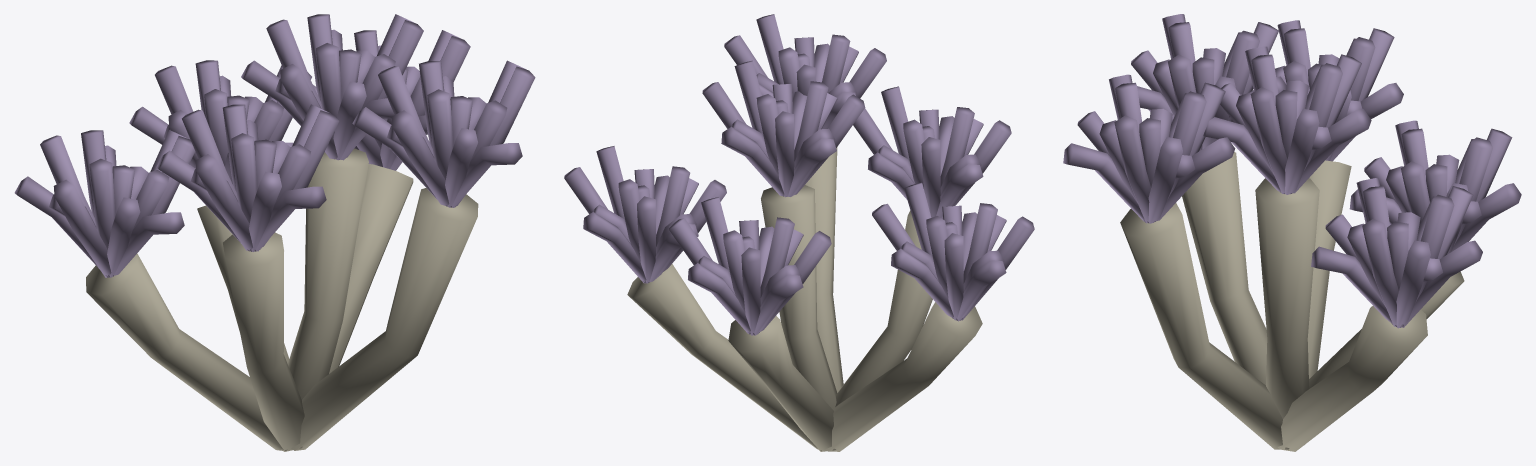
File: torch-mobile.glb
The picture shows the model from 3 angles, left to right: view 1: azimuth 30°, elevation 25°; view 2: azimuth 150°, elevation 25°; view 3: azimuth 270°, elevation 25°; orthographic projection. The views are drawn at different scales.
Parts seen in each view (by area): view 1: fleshy-tentacle, branching-corallum; view 2: fleshy-tentacle, branching-corallum; view 3: fleshy-tentacle, branching-corallum.
Part boxes in pixels (x1,y1,x2,y2): fleshy-tentacle: [14, 14, 535, 277]; branching-corallum: [86, 148, 478, 451]; fleshy-tentacle: [564, 14, 1034, 335]; branching-corallum: [627, 147, 982, 451]; fleshy-tentacle: [1063, 14, 1521, 328]; branching-corallum: [1120, 152, 1464, 451].
Bounding box in the file's own units: 0.5972 × 0.4908 × 0.4988.
